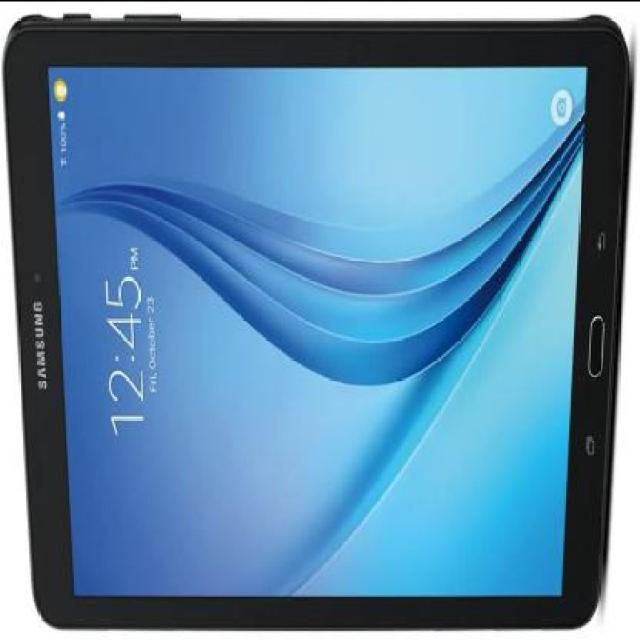tablet: (5, 0, 622, 624)
